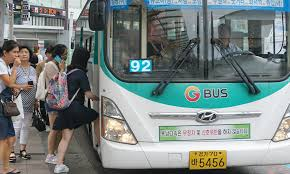bnum: (129, 59, 151, 72)
